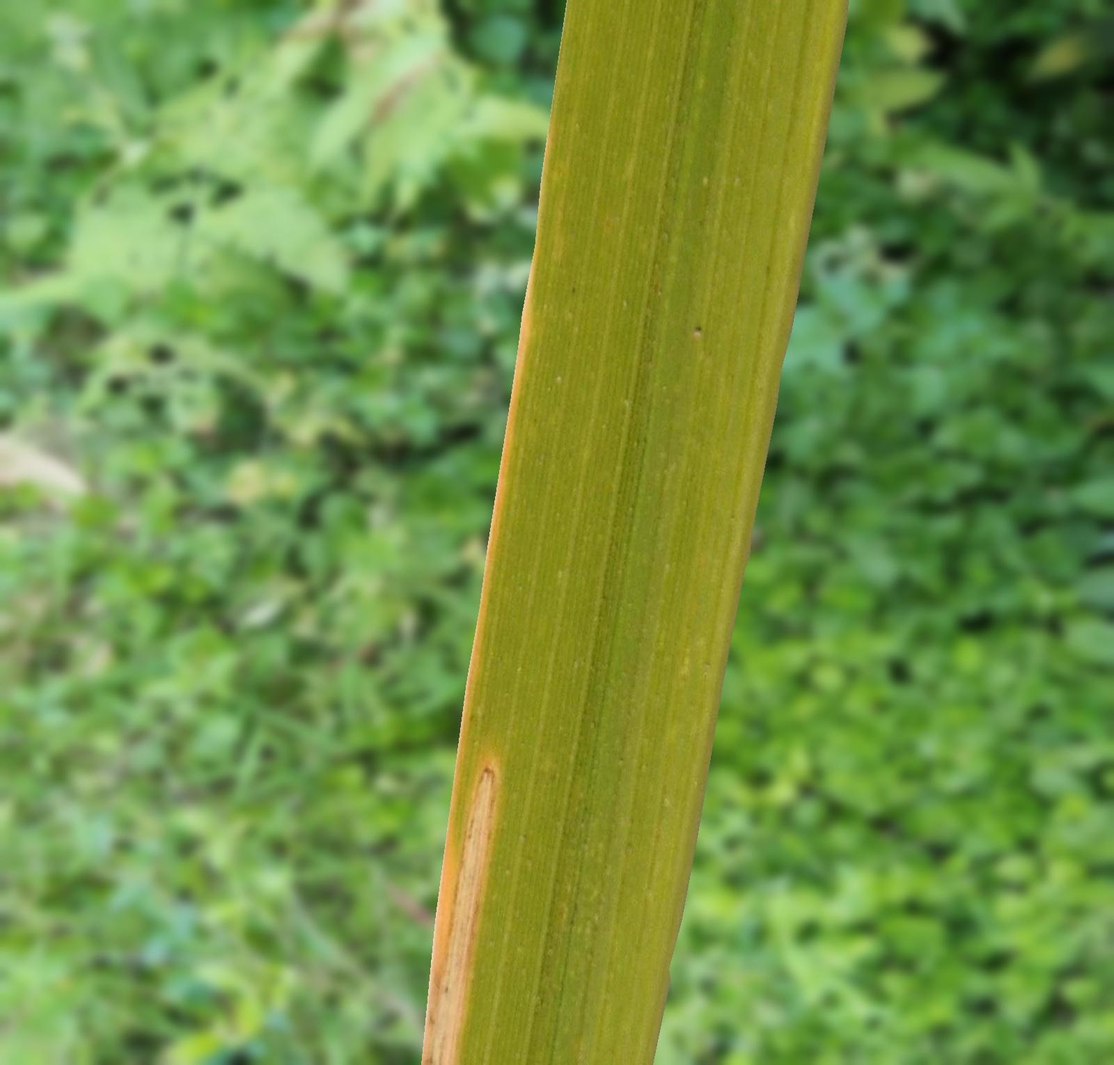BLS: (431, 240, 536, 988), (423, 763, 498, 1064)
LEAF: (421, 0, 848, 1064)
